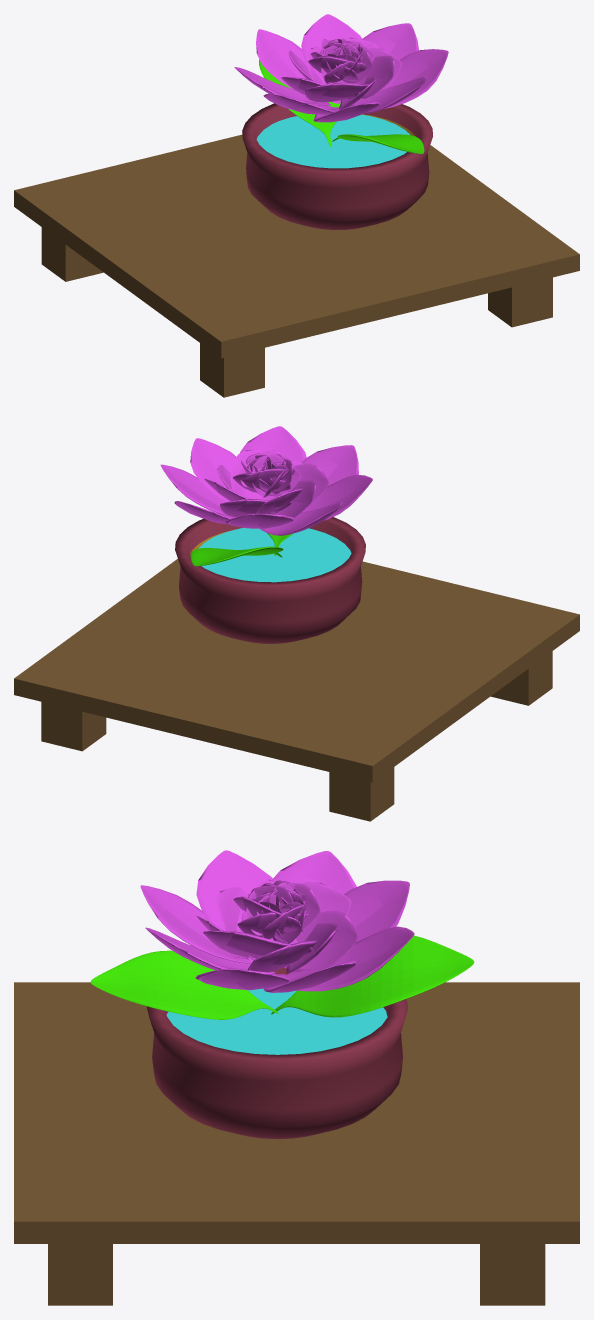
File: mystbloom.glb
3 renders of one model, top to bottom at view 1: azimuth 30°, elevation 25°; view 2: azimuth 150°, elevation 25°; view 3: azimuth 270°, elevation 25°, orthographic. The views are drawn at different scales.
Parts seen in each view (by area): view 1: Cube.027, Sphere.003, Circle.007, Cube.030, Cube.031, Cube.028, Cube.078, Cube.075, Cube.076, Cube.077, Cube.074, Cube.022 (+7 smaller); view 2: Cube.027, Sphere.003, Circle.007, Cube.028, Cube.029, Cube.030, Cube.075, Cube.081, Cube.080, Cube.076, Cube.074, Cube.021 (+7 smaller); view 3: Cube.027, Sphere.003, Circle.007, Cube.022, Cube.021, Cube.029, Cube.031, Cube.078, Cube.081, Cube.080, Cube.077, Cube.079 (+11 smaller).
Part boxes in pixels (x1,y1,x2,y2): Cube.027: [14, 134, 579, 358]; Sphere.003: [242, 103, 432, 229]; Circle.007: [256, 114, 409, 168]; Cube.030: [200, 343, 264, 397]; Cube.031: [488, 277, 552, 327]; Cube.028: [41, 227, 103, 281]; Cube.078: [256, 29, 307, 89]; Cube.075: [384, 49, 448, 108]; Cube.076: [361, 23, 418, 59]; Cube.077: [301, 14, 361, 63]; Cube.074: [352, 76, 426, 113]; Cube.022: [332, 134, 424, 153]; Cube.027: [14, 559, 579, 782]; Sphere.003: [175, 517, 365, 643]; Circle.007: [198, 527, 351, 582]; Cube.028: [329, 767, 394, 821]; Cube.029: [41, 702, 106, 751]; Cube.030: [490, 651, 552, 705]; Cube.075: [190, 438, 236, 501]; Cube.081: [301, 445, 358, 485]; Cube.080: [301, 474, 372, 520]; Cube.076: [160, 464, 230, 516]; Cube.074: [240, 426, 306, 462]; Cube.021: [190, 546, 283, 566]; Cube.027: [14, 982, 579, 1243]; Sphere.003: [147, 967, 408, 1139]; Circle.007: [166, 988, 387, 1054]; Cube.022: [90, 950, 278, 1019]; Cube.021: [271, 935, 474, 1017]; Cube.029: [480, 1244, 545, 1305]; Cube.031: [48, 1244, 112, 1305]; Cube.078: [344, 880, 409, 941]; Cube.081: [140, 885, 251, 963]; Cube.080: [196, 850, 272, 930]; Cube.077: [289, 926, 414, 991]; Cube.079: [272, 851, 356, 894].
Bounding box in the file's own units: 2 × 1.31 × 2.
